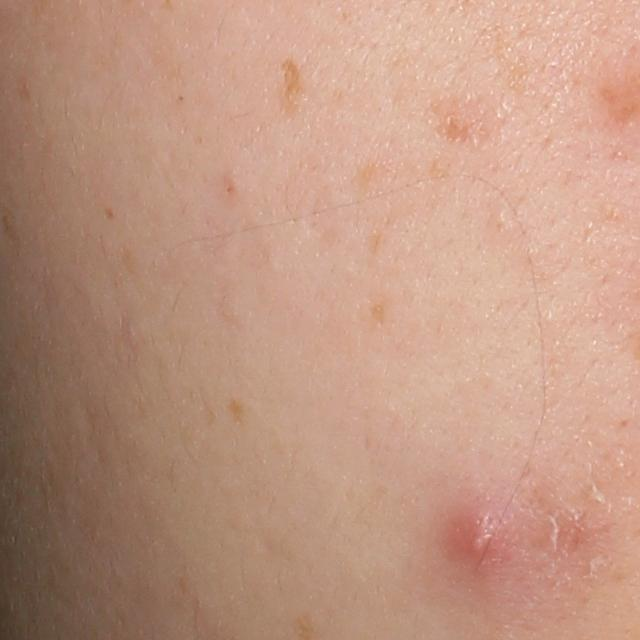comedo: (491, 210, 511, 229)
melasma: (276, 55, 303, 118), (226, 396, 248, 427), (100, 206, 117, 223)
